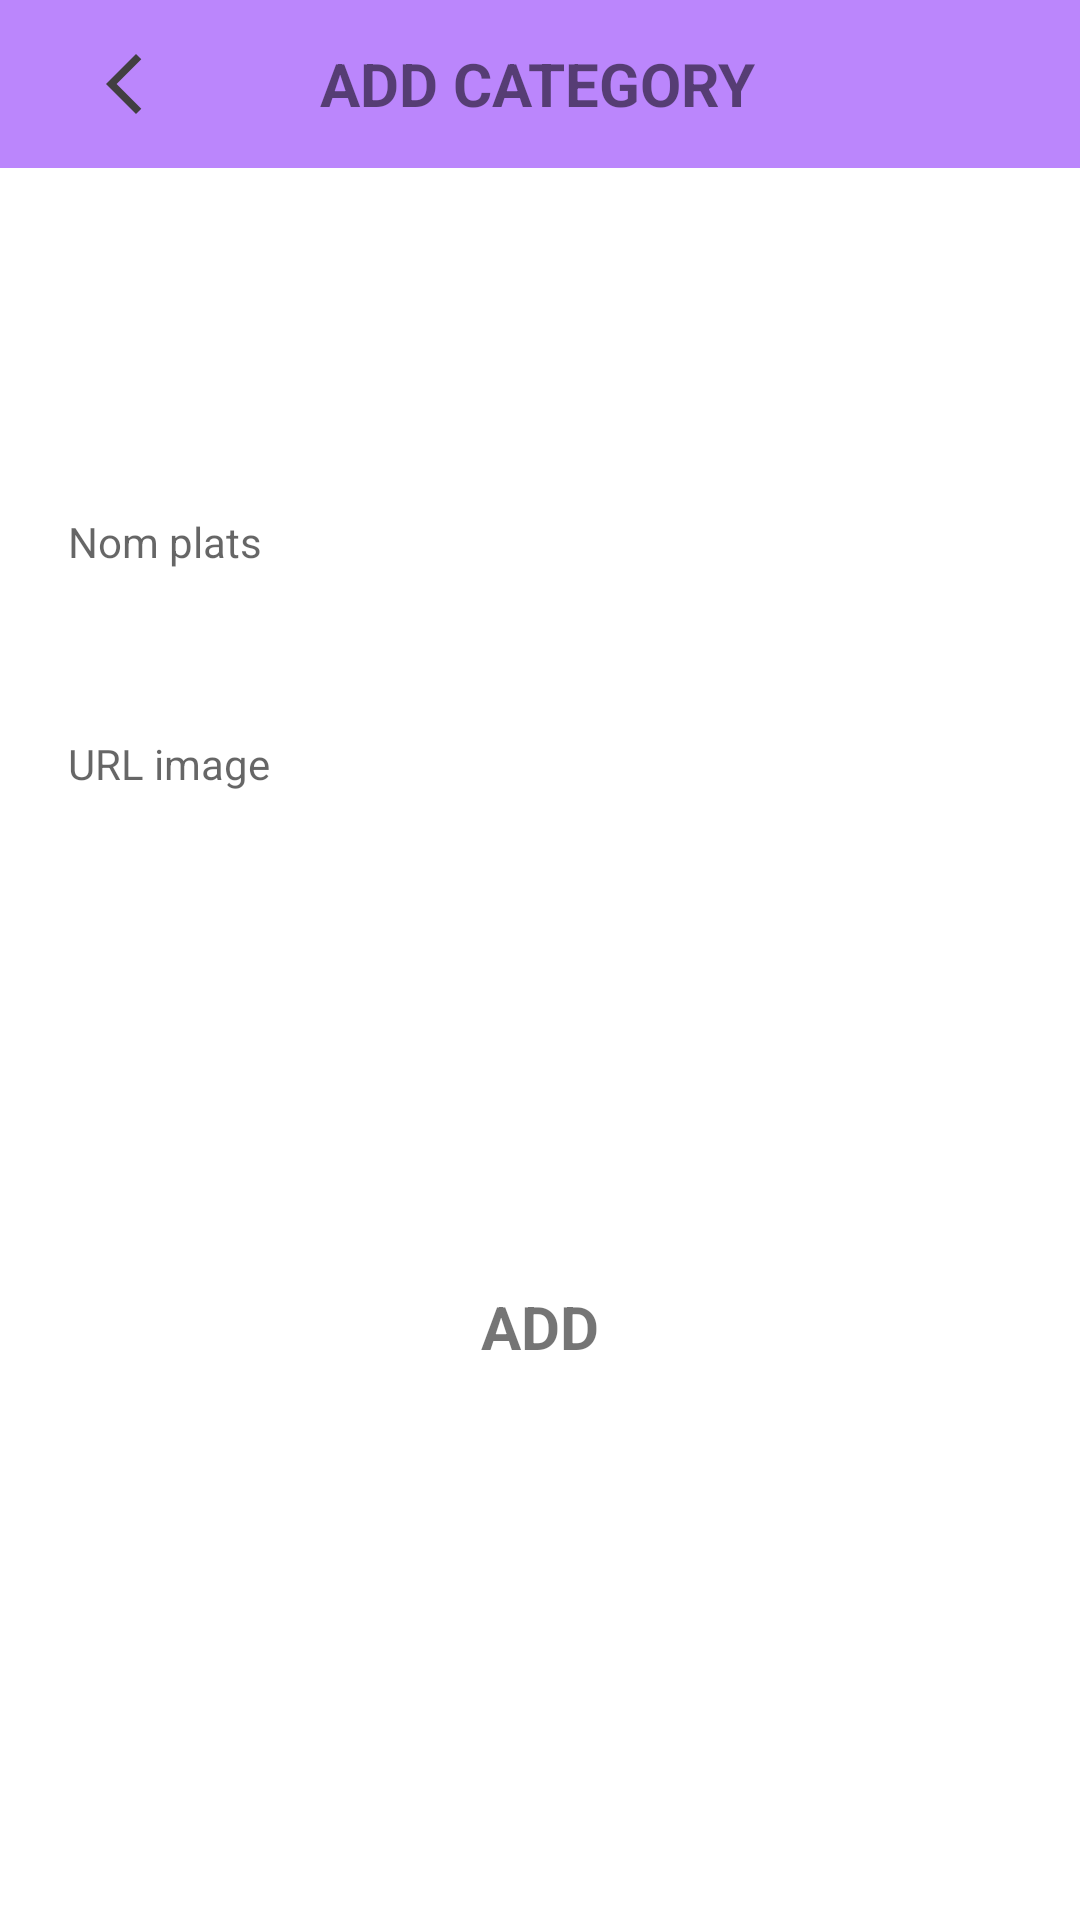

Screen size 1080×1920. Icon name, then its box in pixels as box=[x1, y1, x2, y2]:
before: box=[106, 54, 141, 114]
